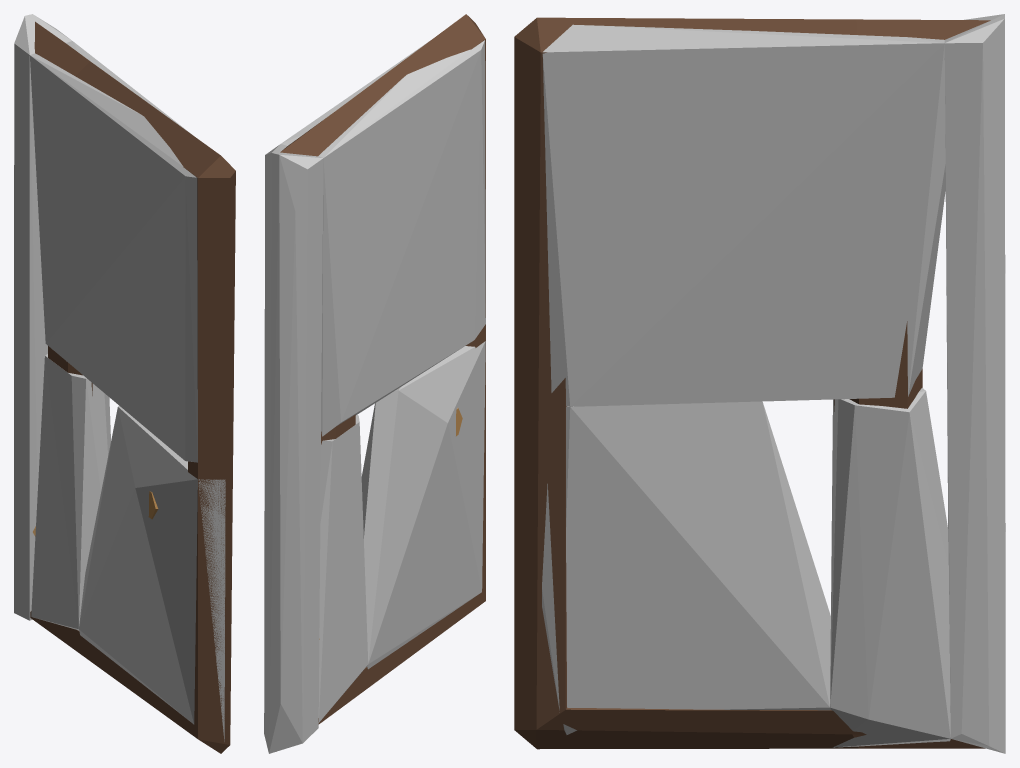
Rendered from SM_Prop_Cabinet_01_Door_l_02.fbx.
3 views of the same model, side by side, from view 1: azimuth 30°, elevation 25°; view 2: azimuth 150°, elevation 25°; view 3: azimuth 270°, elevation 25° (orthographic). The views are drawn at different scales.
Parts seen in each view (by area): view 1: SM_Prop_Cabinet_01_Door_l_02_ConvexHulls, SM_Prop_Cabinet_01_Door_l_02; view 2: SM_Prop_Cabinet_01_Door_l_02_ConvexHulls, SM_Prop_Cabinet_01_Door_l_02; view 3: SM_Prop_Cabinet_01_Door_l_02_ConvexHulls, SM_Prop_Cabinet_01_Door_l_02.
Boxes of the visible parts, x1,y1,x2,y2 form: SM_Prop_Cabinet_01_Door_l_02_ConvexHulls: (14,14,225,741); SM_Prop_Cabinet_01_Door_l_02: (30,21,235,753); SM_Prop_Cabinet_01_Door_l_02_ConvexHulls: (264,40,485,753); SM_Prop_Cabinet_01_Door_l_02: (280,14,485,724); SM_Prop_Cabinet_01_Door_l_02_ConvexHulls: (542,14,1005,753); SM_Prop_Cabinet_01_Door_l_02: (514,17,990,749).
Bounding box in the file's own units: 6.89 × 43.69 × 71.99.
2 materials, 1 textured.
